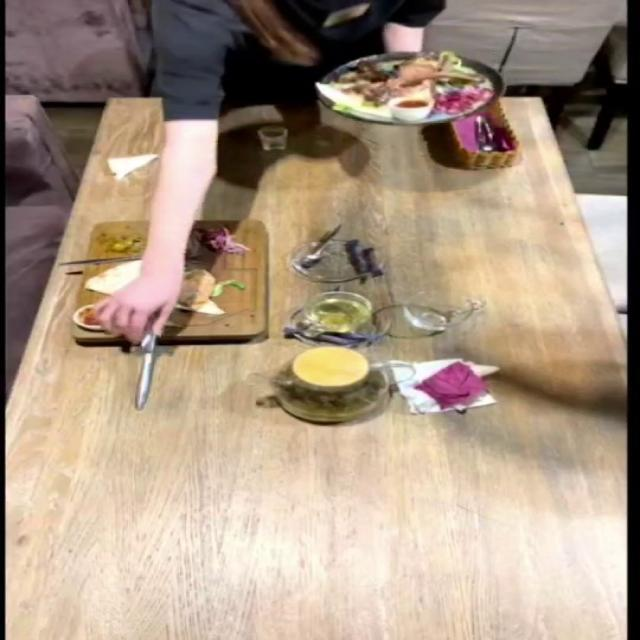meat: (68, 221, 270, 348), (316, 51, 496, 122)
tea: (252, 347, 402, 430)
